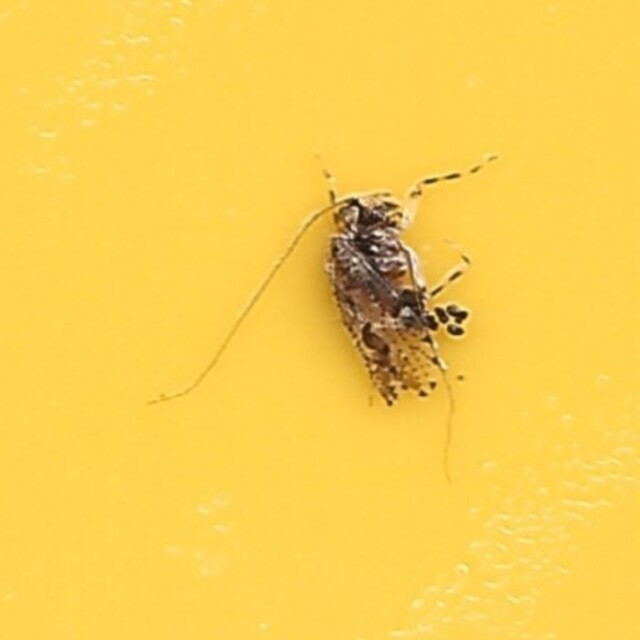Psocoptera: (147, 142, 493, 498)
